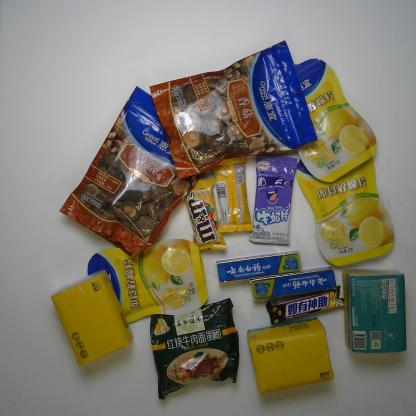Candy: (246, 149, 302, 248)
Chocolate: (207, 154, 258, 236), (180, 176, 228, 255), (263, 284, 347, 327)
Dried Food: (56, 83, 212, 262), (147, 36, 322, 183)
Dried Fruit: (281, 56, 380, 187), (294, 148, 396, 269), (84, 238, 210, 326)
Instant Noodles: (148, 296, 240, 402)
Personal Hygiene: (248, 265, 340, 303), (214, 249, 304, 286)
Tissue: (48, 267, 137, 369), (244, 314, 338, 397), (340, 266, 410, 356)
